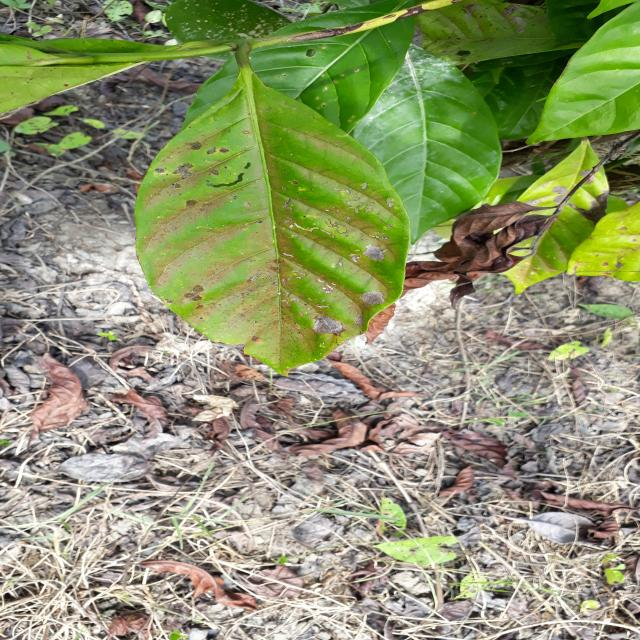Plaga-AranaRoja: (133, 59, 412, 376)
